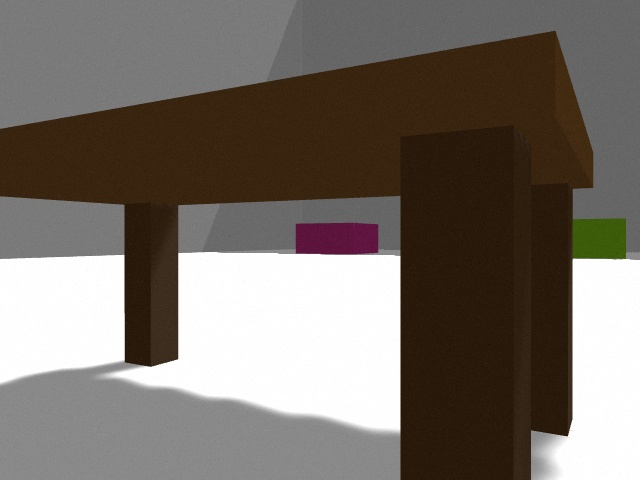green_drop_zone: (573, 218, 626, 259)
red_drop_zone: (296, 223, 378, 254)
